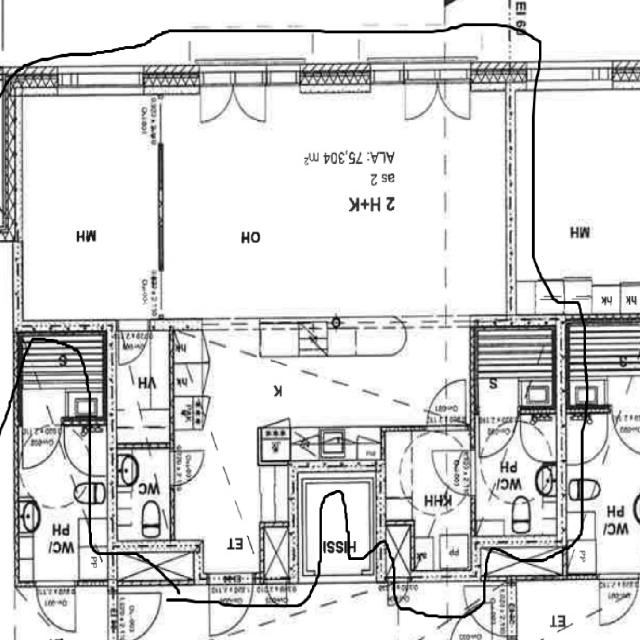door: (208, 573, 254, 636), (427, 380, 467, 432), (233, 64, 266, 123), (480, 406, 517, 458), (201, 64, 233, 123), (433, 451, 475, 495), (438, 64, 470, 121), (406, 64, 438, 121), (119, 320, 147, 364), (170, 451, 202, 485)
